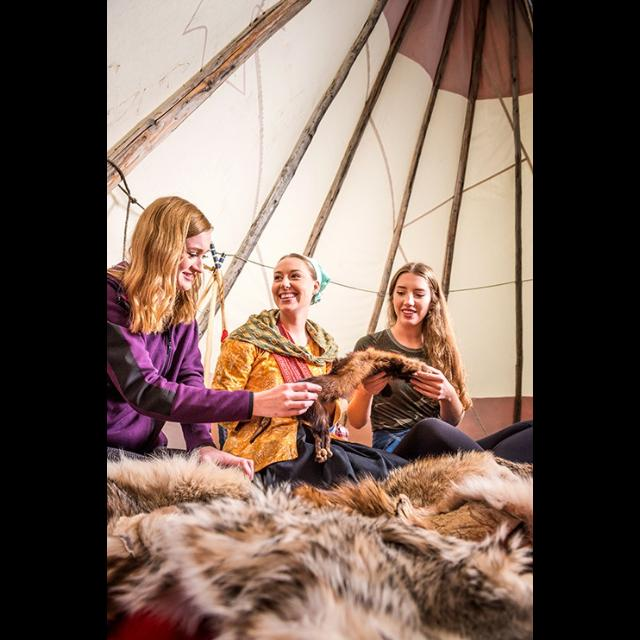head: (136, 196, 214, 294), (389, 260, 438, 328), (271, 253, 325, 313)
person: (107, 192, 326, 608), (206, 250, 432, 608)
